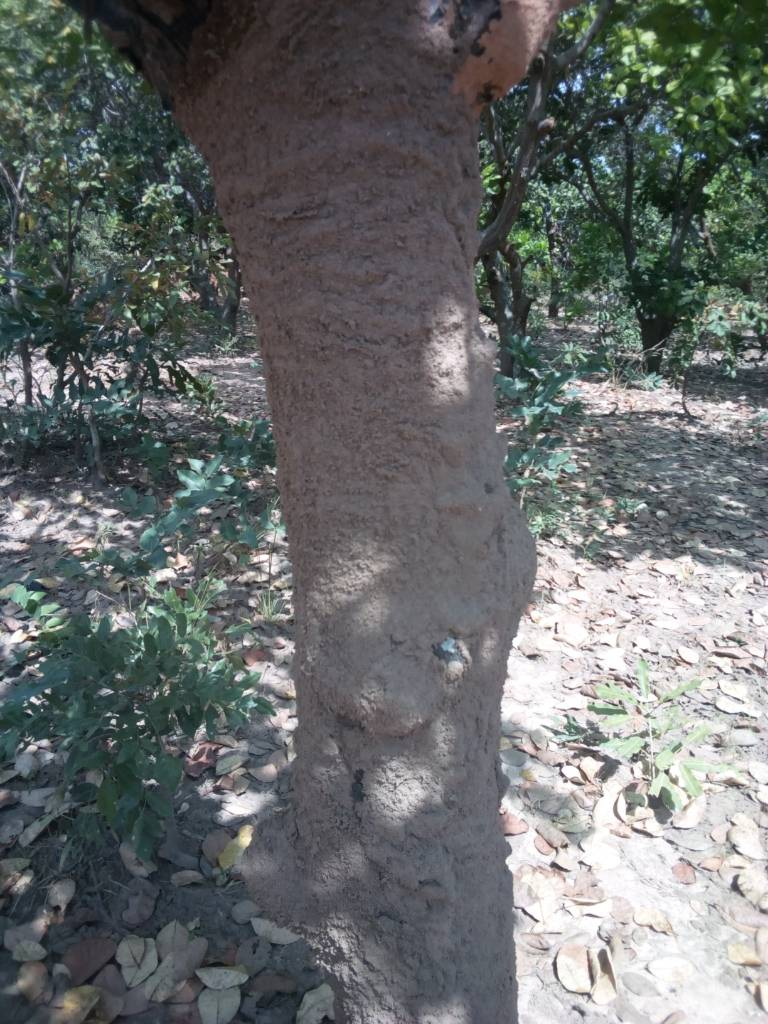Termites: (294, 291, 515, 963), (190, 14, 475, 266)
